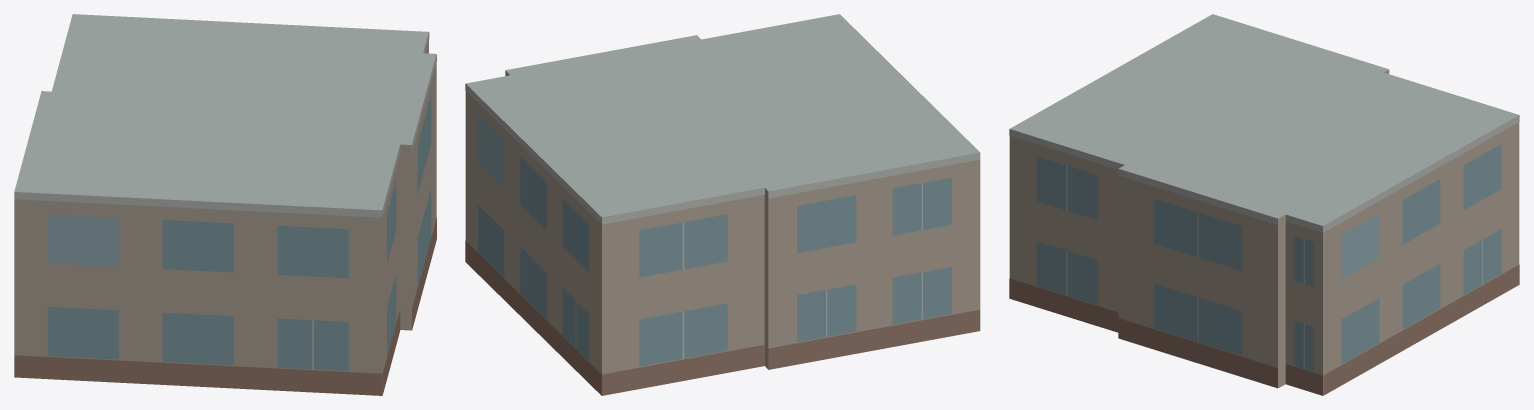
Rendered from survey-upis-32798589.glb.
3 renders of one model, left to right at view 1: azimuth 30°, elevation 25°; view 2: azimuth 150°, elevation 25°; view 3: azimuth 270°, elevation 25°, orthographic. The views are drawn at different scales.
Parts seen in each view (by area): view 1: survey-upis-32798589.tmp; view 2: survey-upis-32798589.tmp; view 3: survey-upis-32798589.tmp.
Boxes of the visible parts, x1=… form: survey-upis-32798589.tmp: x1=14, y1=14, x2=436, y2=395; survey-upis-32798589.tmp: x1=465, y1=14, x2=980, y2=395; survey-upis-32798589.tmp: x1=1009, y1=14, x2=1519, y2=395.
Bounding box in the file's own units: 16.36 × 6.1 × 16.62.
